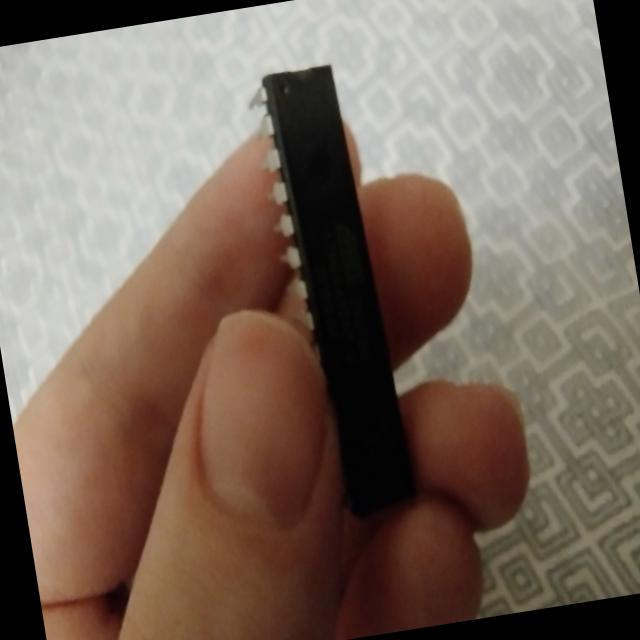atmega: (241, 55, 422, 528)
